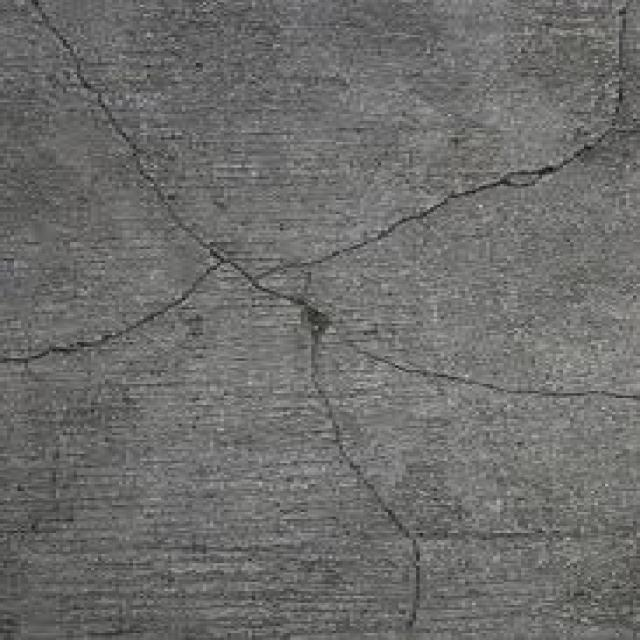crack: (1, 0, 555, 364)
